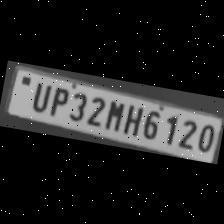0: (192, 119, 217, 152)
1: (157, 109, 180, 145)
2: (173, 113, 199, 150), (83, 92, 107, 128)
3: (64, 88, 88, 122)
6: (136, 104, 162, 140)
H: (119, 99, 144, 136)
M: (100, 94, 125, 132)
P: (44, 83, 70, 118)
U: (26, 77, 52, 113)
